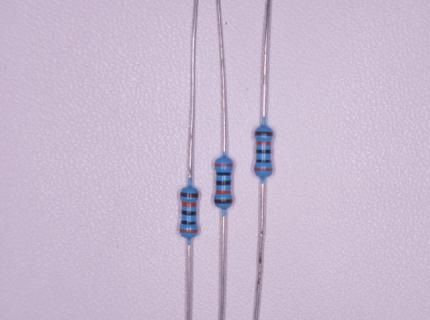Black band: (181, 210, 196, 216), (216, 180, 231, 186), (215, 171, 231, 176), (181, 220, 196, 225), (256, 149, 271, 154), (256, 159, 271, 163)
Brown band: (254, 131, 274, 137), (180, 192, 199, 198), (214, 199, 233, 204)
Orange band: (182, 201, 197, 208), (256, 141, 272, 146), (254, 168, 273, 172), (214, 163, 233, 167), (179, 229, 198, 233), (216, 190, 230, 195)
